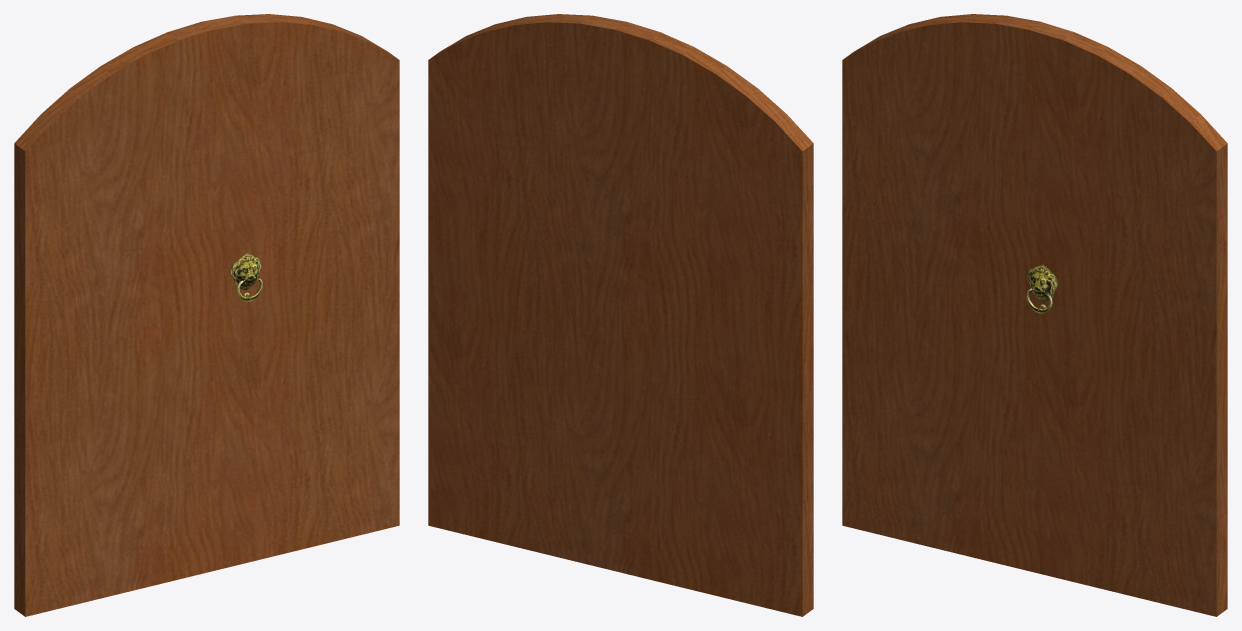
3 views of the same model, side by side, from view 1: azimuth 30°, elevation 25°; view 2: azimuth 150°, elevation 25°; view 3: azimuth 330°, elevation 25° (orthographic).
Parts seen in each view (by area): view 1: SketchUp, knocker.dxf; view 2: SketchUp; view 3: SketchUp, knocker.dxf.
Boxes of the visible parts, x1=… form: SketchUp: x1=14, y1=14, x2=399, y2=616; knocker.dxf: x1=231, y1=253, x2=261, y2=290; SketchUp: x1=428, y1=14, x2=813, y2=616; SketchUp: x1=842, y1=14, x2=1227, y2=616; knocker.dxf: x1=1027, y1=264, x2=1058, y2=301.
Size of the model in its own units: 94.44 by 11.79 by 130.
6 materials, 4 textured.
